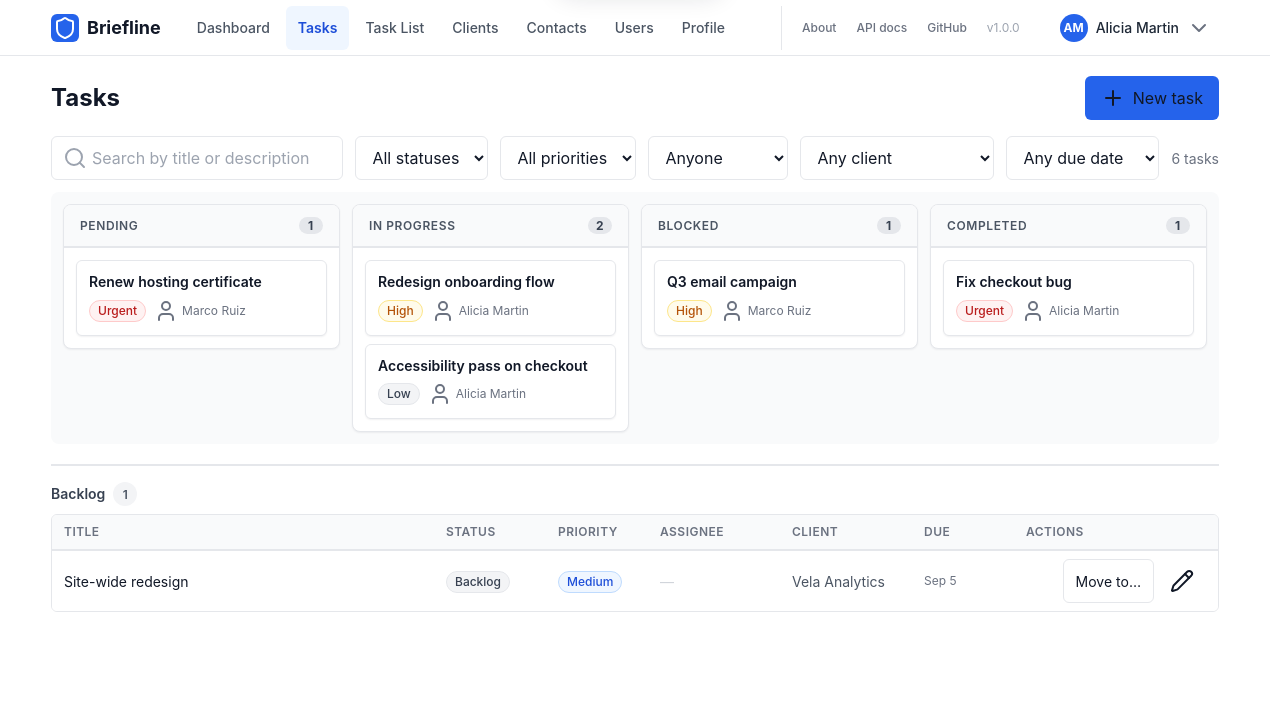
Test: Filters (TASK-FE-003) › filters by status and announces the result count
Check: the heading "Tasks" is shown, box [51,83,120,113]
Check: the heading "Redesign onboarding flow" is shown, box [378,273,555,290]
Select "Completed" in the dropdown named "Filter tasks by status". click: (422, 158)
box: [355,136,488,180]
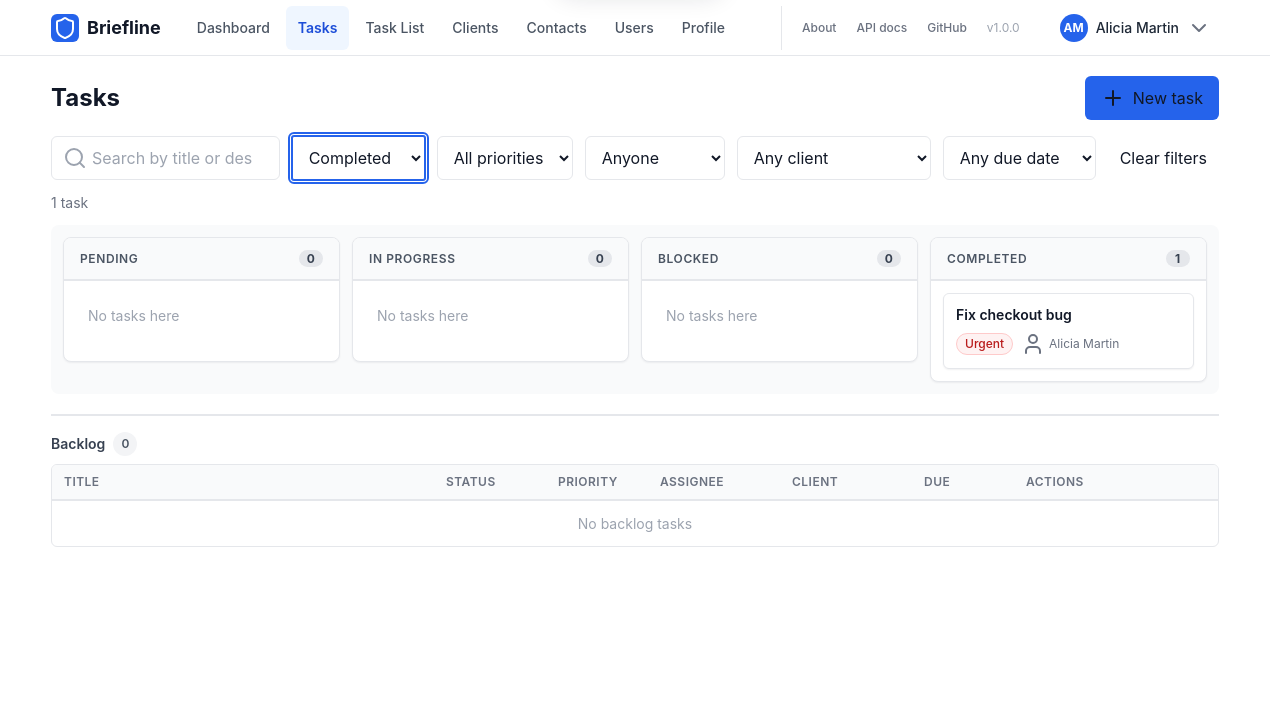
Check: the text "1 task" is shown, box [51,192,88,213]
Check: the button "Redesign onboarding flow" is gone
Check: the text "No tasks here" is shown 3 times, box [88,307,179,324]; [377,307,468,324]; [666,307,757,324]
